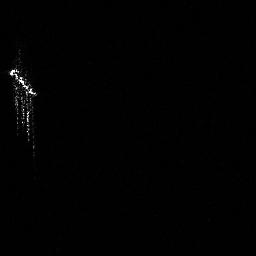ship: (5, 63, 41, 156)
